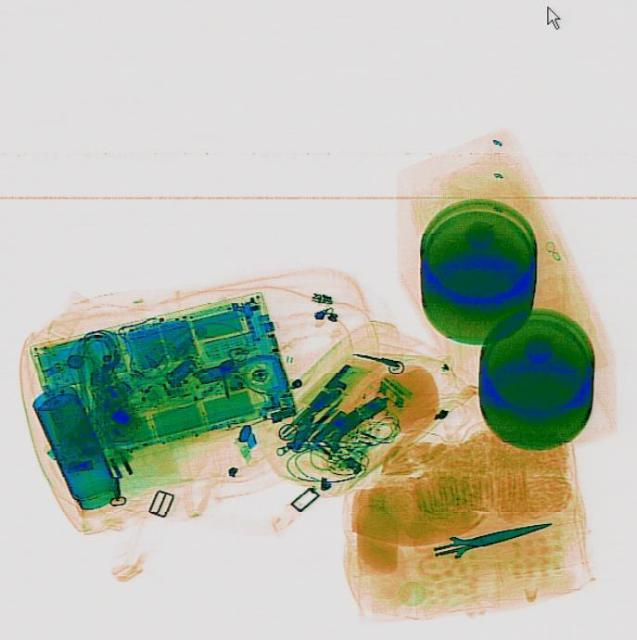Knife: (430, 507, 557, 563)
